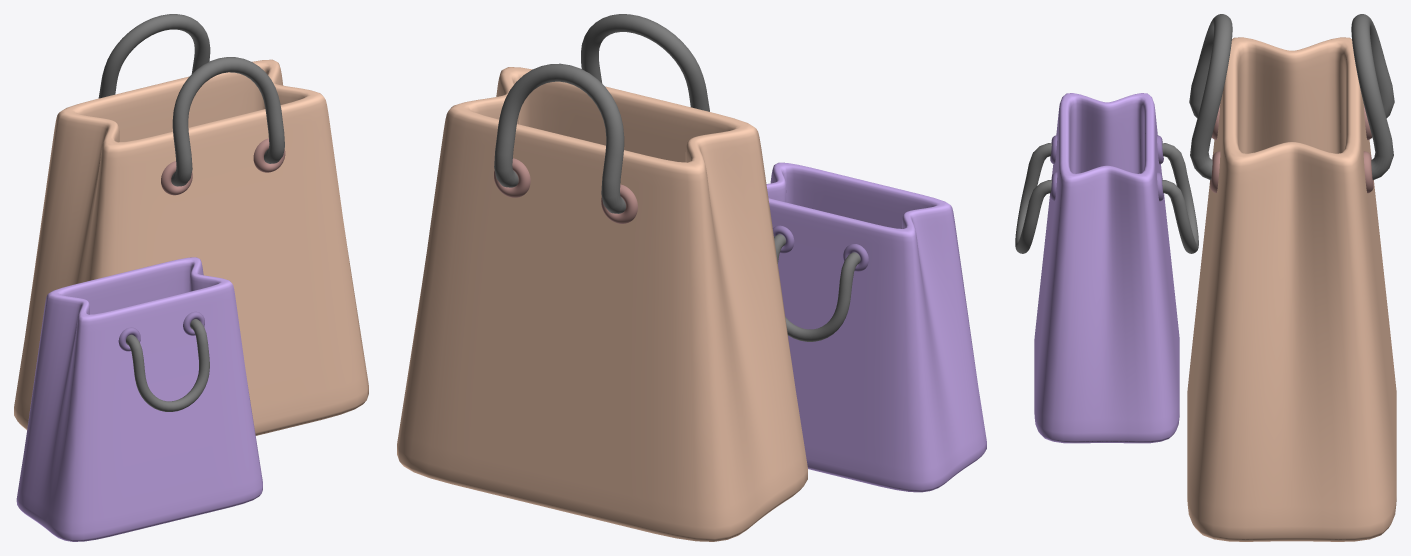
File: buy-mobile-shopping-1678808289073.glb
3 renders of one model, left to right at view 1: azimuth 30°, elevation 25°; view 2: azimuth 150°, elevation 25°; view 3: azimuth 270°, elevation 25°, orthographic. The views are drawn at different scales.
Parts seen in each view (by area): view 1: BigShoppingBag, SmallShoppingBag; view 2: BigShoppingBag, SmallShoppingBag; view 3: BigShoppingBag, SmallShoppingBag.
Part boxes in pixels (x1,y1,x2,y2): BigShoppingBag: (14, 14, 368, 435); SmallShoppingBag: (16, 257, 262, 541); BigShoppingBag: (397, 14, 807, 541); SmallShoppingBag: (766, 162, 986, 492); BigShoppingBag: (1187, 14, 1396, 541); SmallShoppingBag: (1015, 93, 1198, 443).
Bounding box in the file's own units: 2.38 × 2.25 × 1.76.
